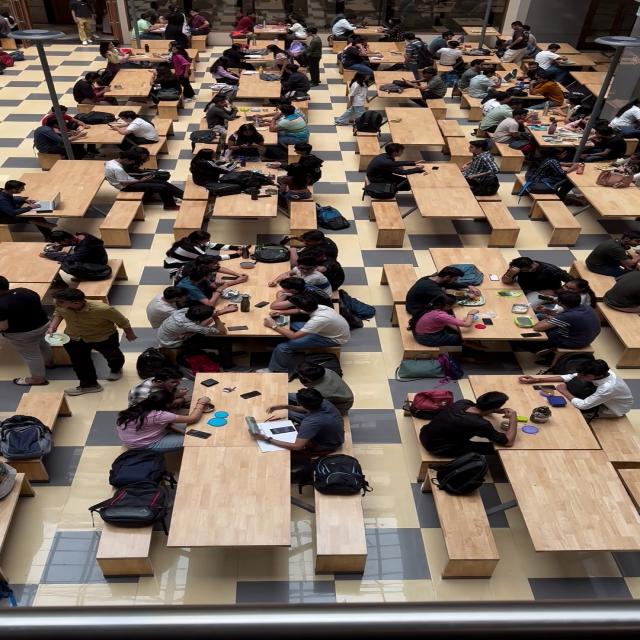Occupied: (470, 373, 607, 451), (179, 371, 293, 446), (495, 102, 593, 186), (524, 359, 634, 420), (256, 388, 344, 462), (419, 392, 516, 457), (114, 388, 206, 456), (6, 160, 112, 219), (0, 283, 63, 377), (270, 360, 354, 419), (104, 151, 182, 209), (62, 119, 173, 159), (154, 297, 224, 356), (447, 300, 543, 341), (146, 282, 238, 324), (521, 145, 584, 201), (228, 36, 304, 82), (127, 366, 199, 413), (43, 233, 111, 281), (0, 179, 58, 235), (385, 106, 449, 156), (170, 257, 246, 299), (364, 143, 428, 192), (164, 230, 246, 268), (272, 304, 347, 345), (427, 34, 526, 65), (404, 266, 473, 308), (32, 115, 95, 160), (268, 257, 334, 298), (501, 256, 572, 294), (269, 142, 324, 191), (534, 296, 598, 338), (501, 58, 558, 105), (176, 336, 243, 373), (0, 249, 65, 287), (189, 148, 247, 190), (584, 234, 637, 278), (148, 56, 195, 105), (460, 139, 501, 193), (106, 68, 156, 111), (205, 318, 304, 339), (403, 162, 475, 190), (574, 126, 628, 162), (281, 227, 338, 261), (336, 74, 372, 126), (110, 110, 159, 146), (338, 41, 378, 84), (225, 124, 268, 161), (247, 101, 306, 126), (40, 104, 86, 136), (402, 67, 447, 99), (491, 110, 533, 144), (73, 72, 116, 105), (235, 72, 282, 102), (534, 44, 572, 81), (277, 66, 311, 102), (608, 100, 640, 138), (508, 339, 560, 362), (300, 28, 322, 82), (458, 62, 497, 92), (534, 124, 584, 147), (162, 8, 189, 48), (102, 40, 133, 74), (315, 260, 346, 292), (366, 50, 410, 71), (220, 44, 253, 71), (158, 42, 190, 68), (185, 9, 211, 40), (437, 41, 467, 67), (500, 29, 531, 54), (266, 45, 294, 72), (331, 13, 360, 39), (253, 26, 294, 44), (280, 14, 308, 40), (136, 13, 162, 40), (349, 36, 379, 58), (232, 13, 257, 36), (0, 11, 20, 39)
Unoccupied: (499, 448, 640, 553), (165, 444, 292, 549), (425, 466, 501, 580), (313, 484, 368, 574), (95, 514, 156, 578), (408, 185, 488, 229), (0, 477, 26, 595), (400, 317, 474, 358), (207, 184, 279, 225), (429, 246, 514, 280), (586, 410, 640, 462), (577, 186, 640, 228), (7, 392, 69, 430), (532, 199, 584, 244), (567, 256, 620, 298), (474, 200, 522, 245), (95, 203, 145, 246), (371, 200, 406, 244), (382, 264, 425, 298), (173, 199, 213, 235), (113, 191, 152, 224), (449, 51, 508, 72), (372, 84, 426, 103), (287, 199, 317, 232), (356, 133, 384, 156), (330, 36, 361, 54), (156, 97, 180, 119), (140, 39, 173, 55), (180, 186, 211, 201), (460, 27, 499, 38), (550, 44, 581, 54)
